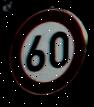Speed Limit -60-: (5, 5, 91, 98)
